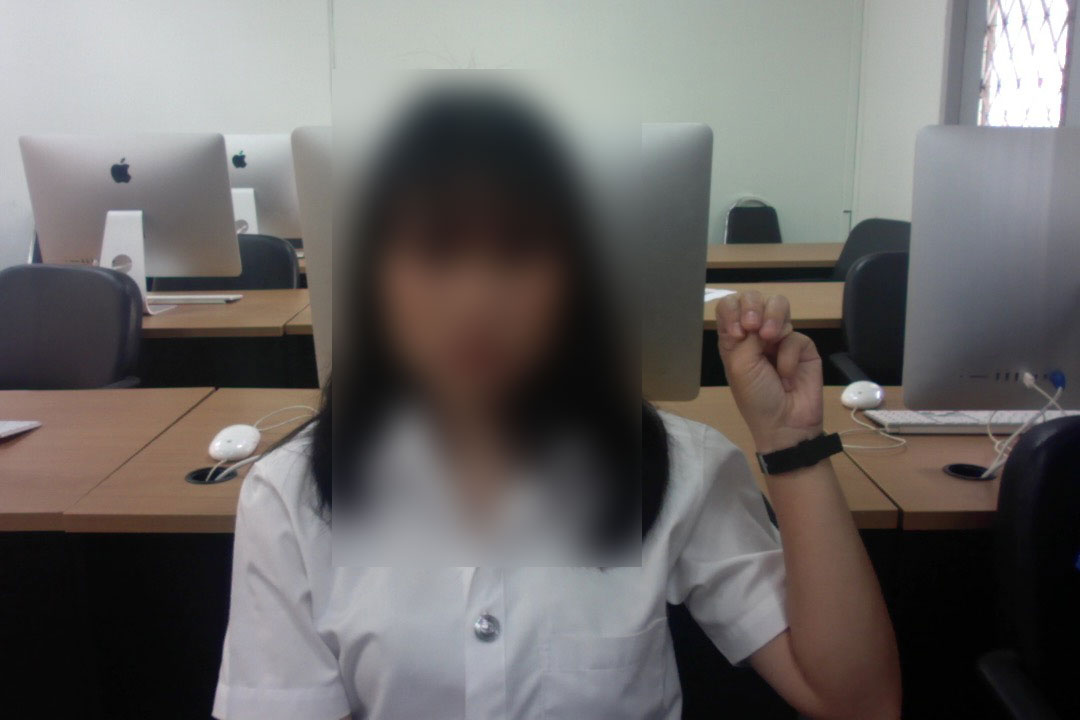mor: (703, 284, 836, 442)
